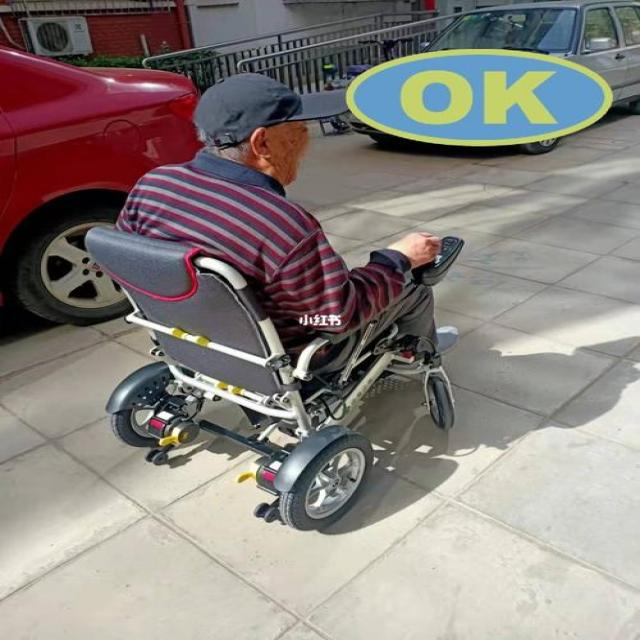wheelchairs: (75, 217, 488, 536)
